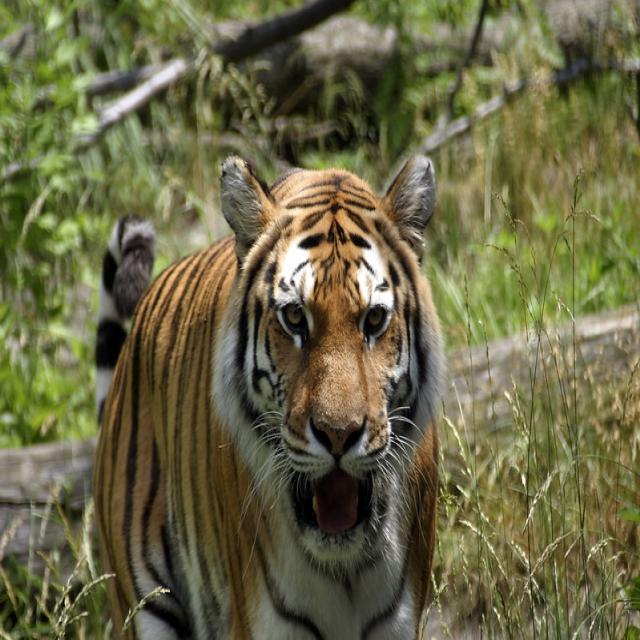Tiger: (84, 149, 441, 639)
